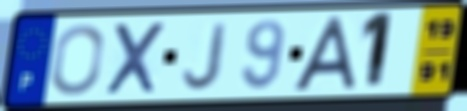1: (357, 10, 394, 94)
9: (238, 18, 288, 92)
A: (289, 14, 360, 93)
J: (180, 20, 231, 92)
O: (49, 22, 107, 98)
X: (103, 19, 169, 97)
